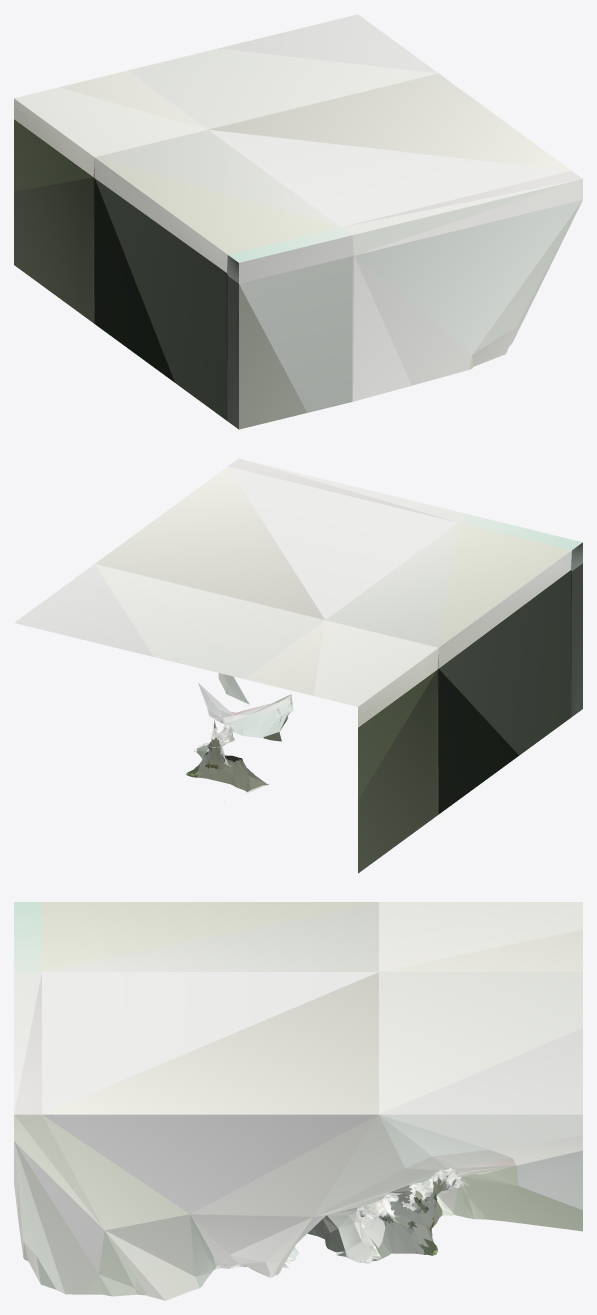
3 views of the same model, one above another, from view 1: azimuth 30°, elevation 25°; view 2: azimuth 150°, elevation 25°; view 3: azimuth 270°, elevation 25° (orthographic). The views are drawn at different scales.
Size of the model in its own units: 13.89 by 6.43 by 15.73.
1 material, 1 textured.
